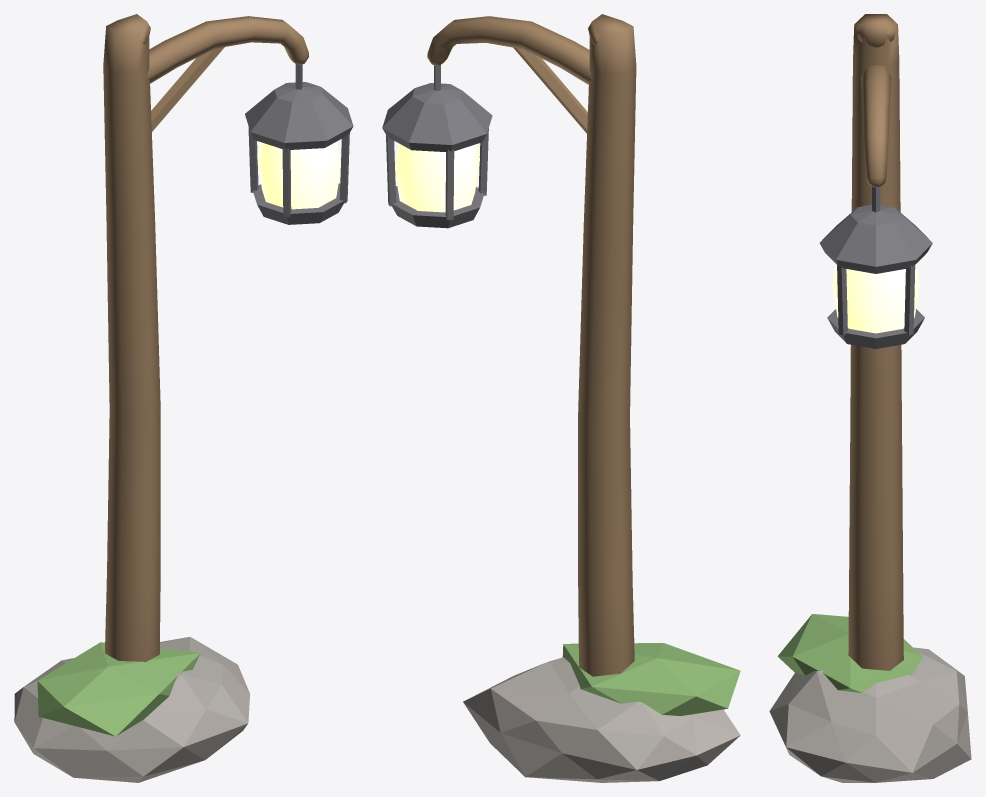
File: lantern_post.glb
3 renders of one model, left to right at view 1: azimuth 30°, elevation 25°; view 2: azimuth 150°, elevation 25°; view 3: azimuth 270°, elevation 25°, orthographic.
Visible parts, largest first — view 1: lantern_post; view 2: lantern_post; view 3: lantern_post.
Part boxes in pixels (bbox=[...]): lantern_post: bbox=[14, 14, 353, 782]; lantern_post: bbox=[382, 14, 740, 782]; lantern_post: bbox=[769, 14, 971, 782].
Bounding box in the file's own units: 0.7468 × 1.6 × 0.3922.
